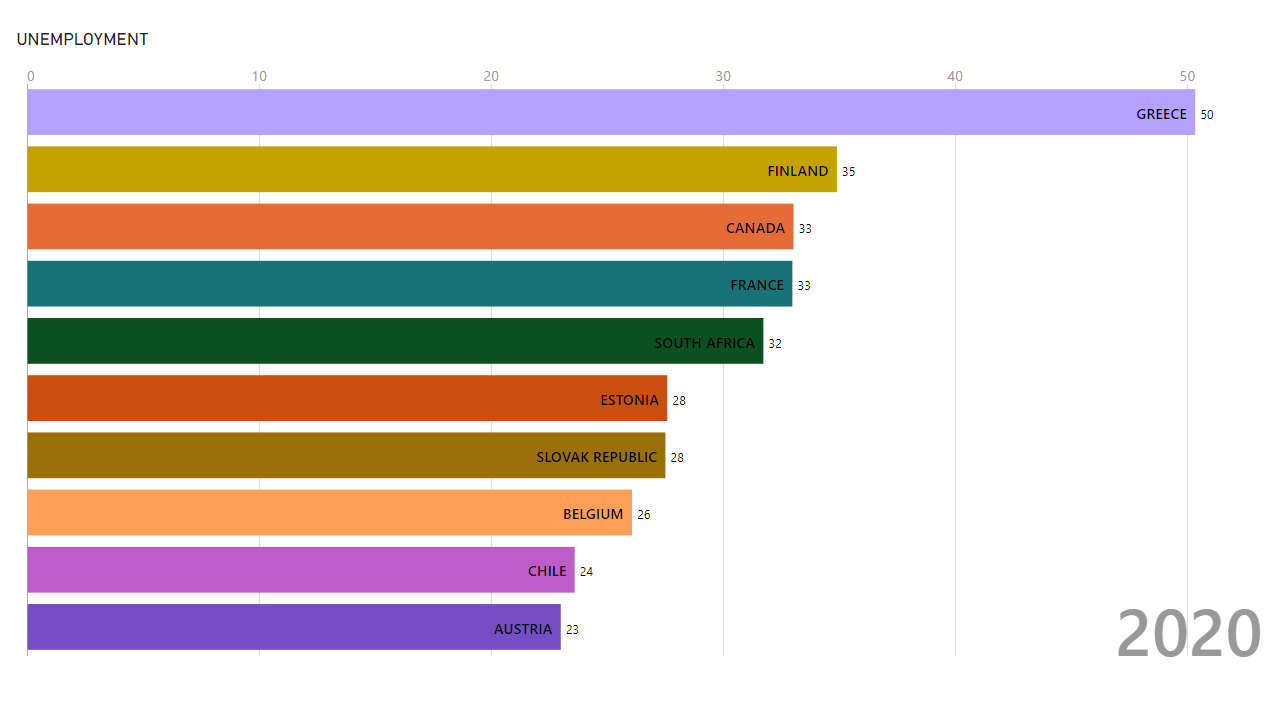

What the dashboard file says about the page in this screenshot:
{"tool":"powerbi","page":{"name":"Page 1","canvas":[1280,720],"ordinal":0},"visuals":[{"type":"wishyoulizationbarchartrace","title":"UNEMPLOYMENT","fields":{"name":["Table1.Region"],"value":["Sum(Table1.Value)"],"year":["Table1.Date.Variation.Date Hierarchy.Year"]},"box":[20,39.9,1223.4,618.4],"z":1}]}

Visuals, with their boxes in screenshot pixels (x1, y1, x2, y2), scaled from the page's 1280x720 canvas onto the 1288x714 screenshot:
"UNEMPLOYMENT" wishyoulizationbarchartrace: bbox=[20, 40, 1251, 653]
